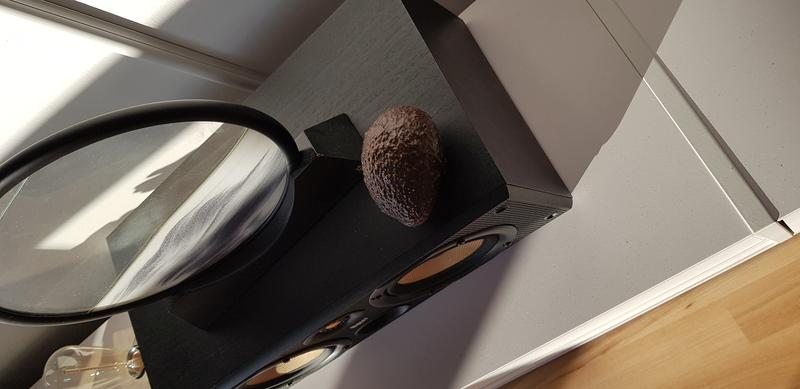Avocado: (355, 103, 446, 235)
